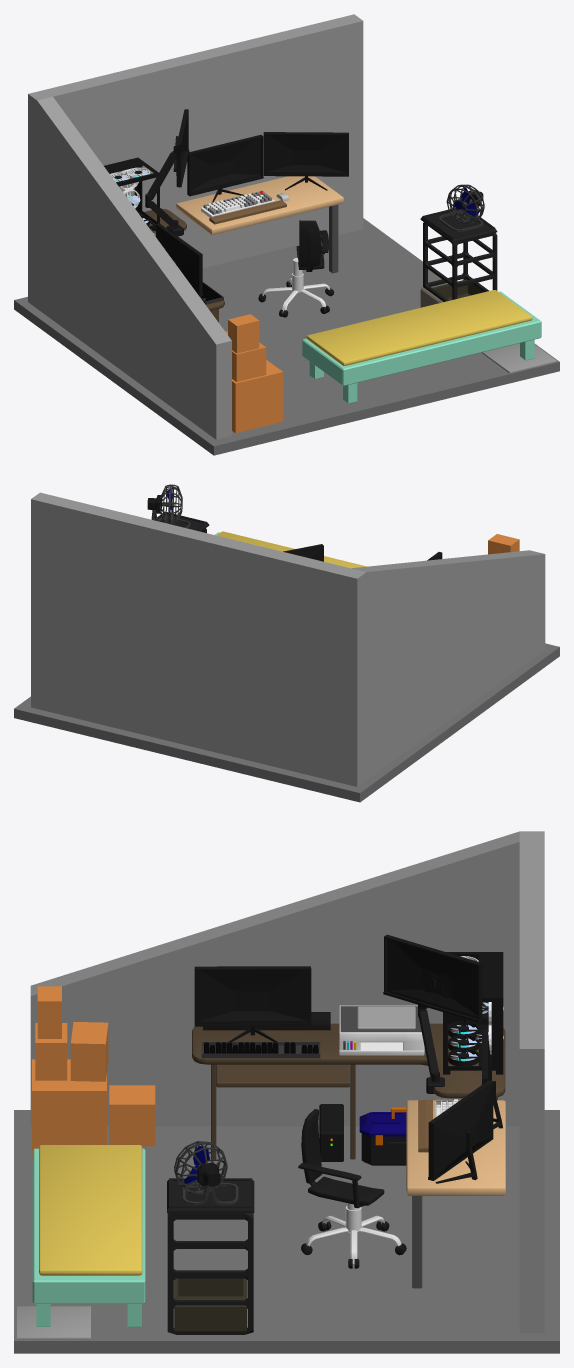
The model's file is home_pc_test_3.glb.
The picture shows the model from 3 angles, top to bottom: view 1: azimuth 30°, elevation 25°; view 2: azimuth 150°, elevation 25°; view 3: azimuth 270°, elevation 25°; orthographic projection. The views are drawn at different scales.
Parts seen in each view (by area): view 1: Cube.048, Cube.049, platform, bed, monitor_2, table, monitor_1, Cube.074, Cube.071, monitor_3, Cube.073, Cube.050 (+10 smaller); view 2: Cube.048, Cube.049, platform, bed, Sphere, Cube.077, monitor_2.001; view 3: platform, Cube.049, bed, Cube.048, monitor_3, Cube.051, monitor_2.001, Cube.074, table, monitor_2, Cube.071, Cube.072 (+20 smaller).
Boxes of the visible parts, left/top/right/bottom form: Cube.048: left=28, top=14, right=363, bottom=308; Cube.049: left=37, top=96, right=231, bottom=439; platform: left=14, top=218, right=559, bottom=455; bed: left=302, top=290, right=541, bottom=403; monitor_2: left=263, top=132, right=348, bottom=190; table: left=176, top=176, right=343, bottom=234; monitor_1: left=187, top=135, right=263, bottom=203; Cube.074: left=232, top=360, right=283, bottom=433; Cube.071: left=423, top=222, right=497, bottom=301; monitor_3: left=156, top=223, right=203, bottom=296; Cube.073: left=420, top=208, right=497, bottom=242; Cube.050: left=482, top=343, right=557, bottom=373; Cube.048: left=31, top=492, right=366, bottom=786; Cube.049: left=351, top=550, right=545, bottom=779; platform: left=14, top=643, right=559, bottom=802; bed: left=215, top=531, right=366, bottom=568; Sphere: left=159, top=484, right=182, bottom=524; Cube.077: left=488, top=534, right=519, bottom=554; monitor_2.001: left=283, top=544, right=323, bottom=561; platform: left=14, top=1110, right=559, bottom=1353; Cube.049: left=30, top=831, right=519, bottom=1126; bed: left=32, top=1145, right=145, bottom=1327; Cube.048: left=519, top=831, right=544, bottom=1333; monitor_3: left=194, top=966, right=311, bottom=1041; Cube.051: left=192, top=1023, right=505, bottom=1098; monitor_2.001: left=383, top=934, right=482, bottom=1022; Cube.074: left=32, top=1059, right=106, bottom=1158; table: left=406, top=1100, right=505, bottom=1195; monitor_2: left=428, top=1080, right=493, bottom=1183; Cube.071: left=167, top=1213, right=253, bottom=1334; Cube.072: left=173, top=1278, right=247, bottom=1331.
Bounding box in the file's own units: 14.54 × 8.73 × 14.54.
